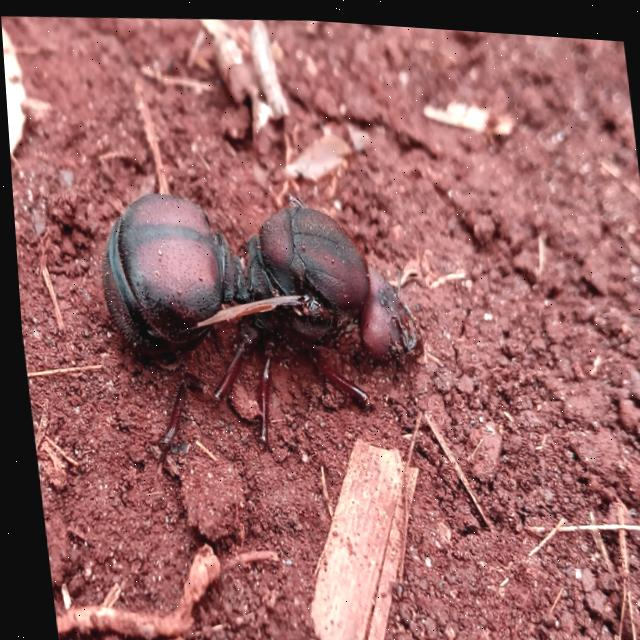Alive-Female-Dealate: (88, 173, 429, 483)
